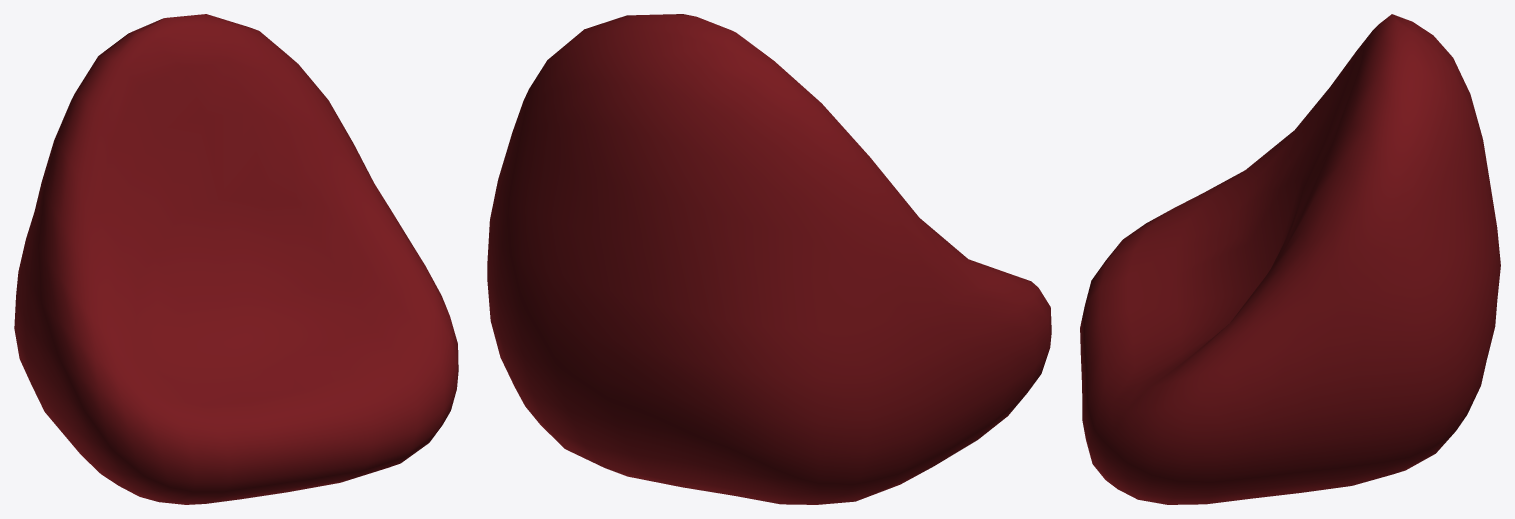
The model's file is beanbag red.fbx.
The picture shows the model from 3 angles, left to right: view 1: azimuth 30°, elevation 25°; view 2: azimuth 150°, elevation 25°; view 3: azimuth 270°, elevation 25°; orthographic projection. The views are drawn at different scales.
Visible parts, largest first — view 1: Cube; view 2: Cube; view 3: Cube.
Boxes of the visible parts, box(x1,y1,x2,y2) form: Cube: box(14, 14, 458, 504); Cube: box(487, 14, 1051, 504); Cube: box(1080, 14, 1500, 504).
Bounding box in the file's own units: 96.18 × 98.68 × 87.58.
